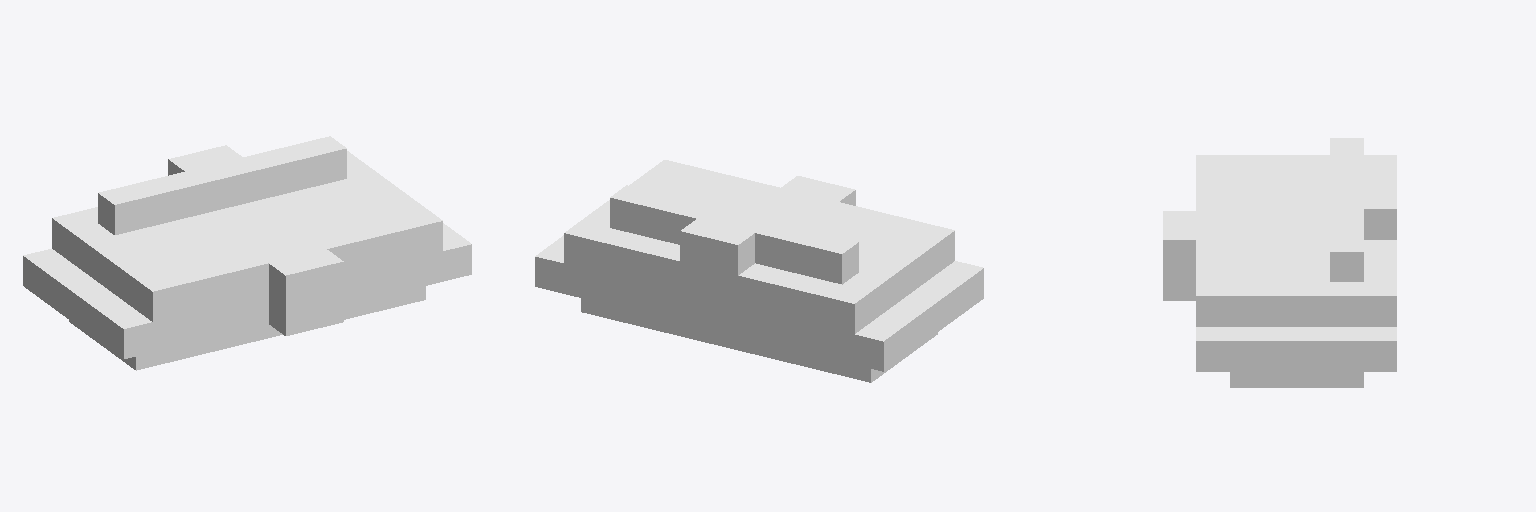
File: gladiator-2.obj
3 views of the same model, side by side, from view 1: azimuth 30°, elevation 25°; view 2: azimuth 150°, elevation 25°; view 3: azimuth 270°, elevation 25° (orthographic).
Parts seen in each view (by area): view 1: object 1; view 2: object 1; view 3: object 1.
Part boxes in pixels (bbox=[...]): object 1: bbox=[23, 136, 471, 370]; object 1: bbox=[535, 160, 983, 382]; object 1: bbox=[1163, 138, 1396, 387].
Bounding box in the file's own units: 1.2 × 0.4 × 0.7.